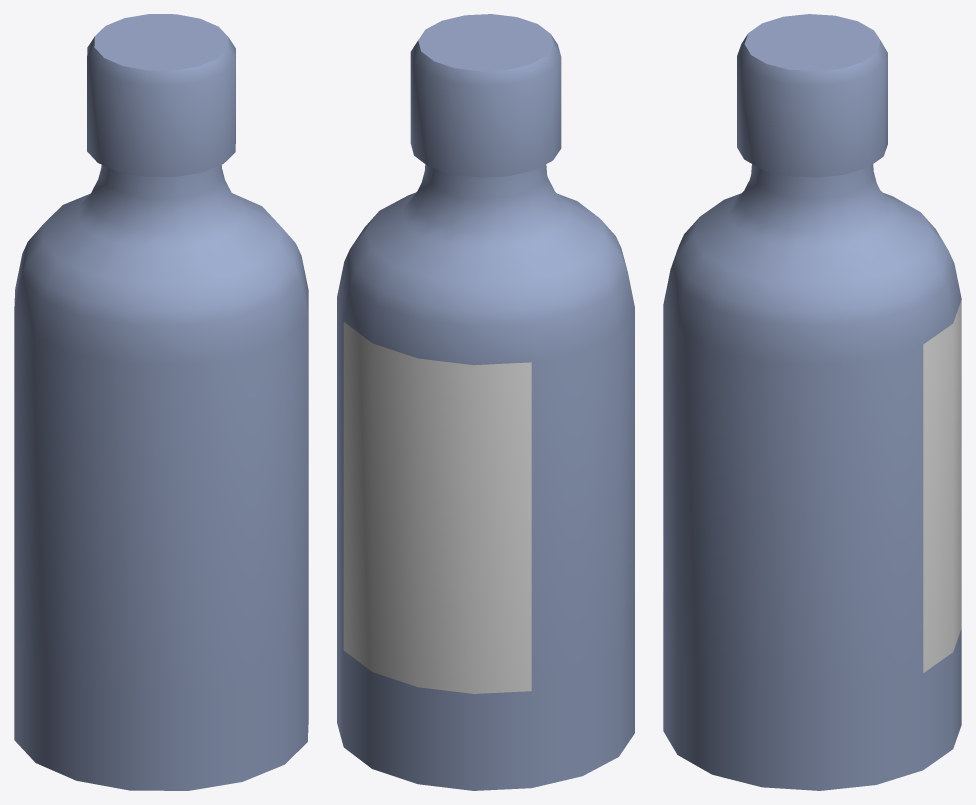
File: bouteille.fbx
3 renders of one model, left to right at view 1: azimuth 30°, elevation 25°; view 2: azimuth 150°, elevation 25°; view 3: azimuth 270°, elevation 25°, orthographic.
Visible parts, largest first — view 1: TAG_bouteille4; view 2: TAG_bouteille4; view 3: TAG_bouteille4.
Part boxes in pixels (x1,y1,x2,y2): TAG_bouteille4: [14, 14, 308, 790]; TAG_bouteille4: [337, 14, 634, 790]; TAG_bouteille4: [663, 14, 961, 790].
Size of the model in its own units: 13.83 by 13.83 by 35.03.
